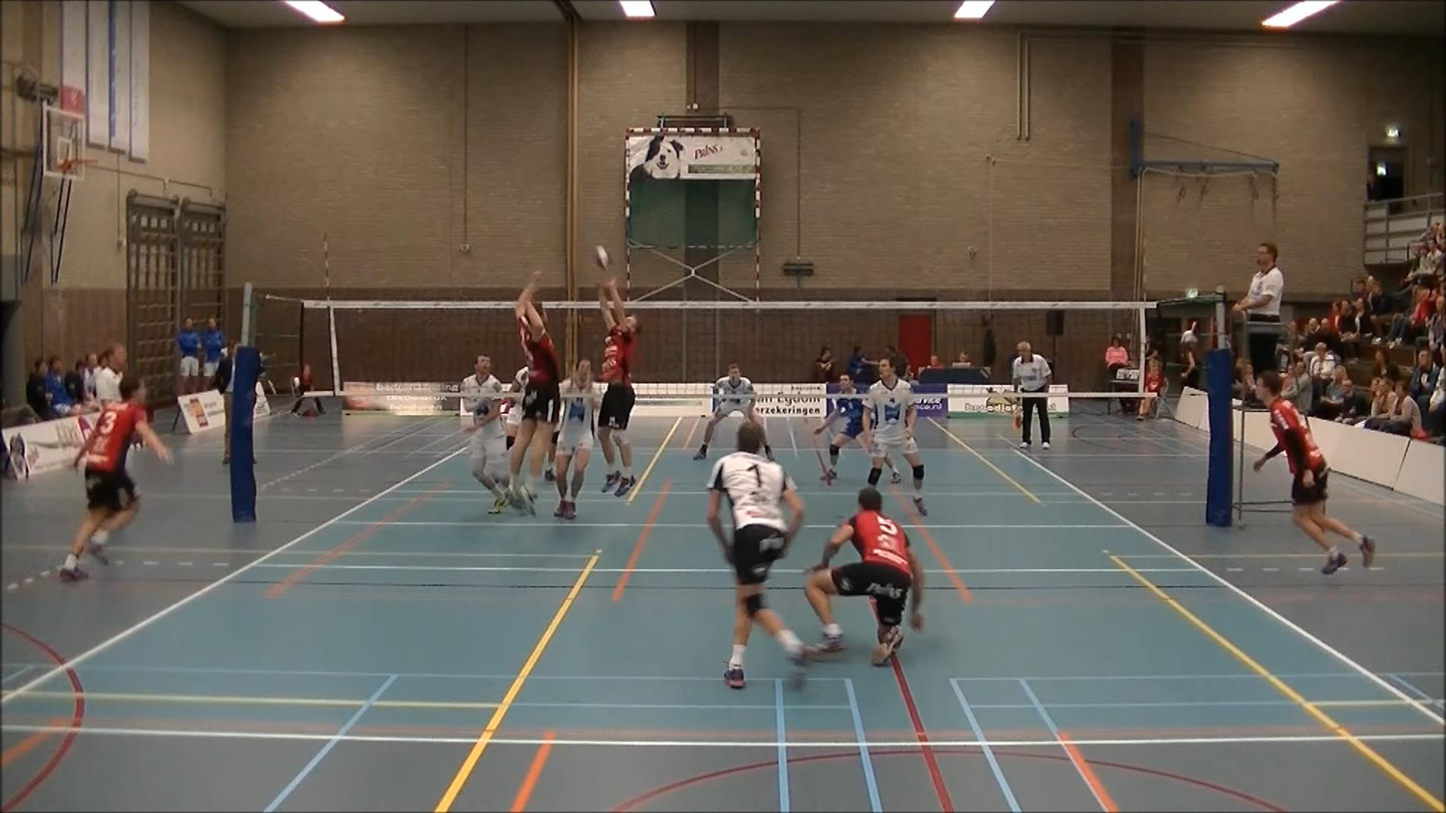Attack: (488, 267, 565, 515)
Player: (706, 422, 806, 688), (1253, 370, 1375, 574), (58, 377, 171, 580), (805, 486, 924, 665), (863, 358, 926, 515), (693, 363, 773, 460), (460, 355, 508, 513), (554, 359, 600, 519), (813, 374, 870, 482), (505, 367, 526, 451)
Set: (582, 271, 646, 501)
ball: (590, 240, 616, 276)
